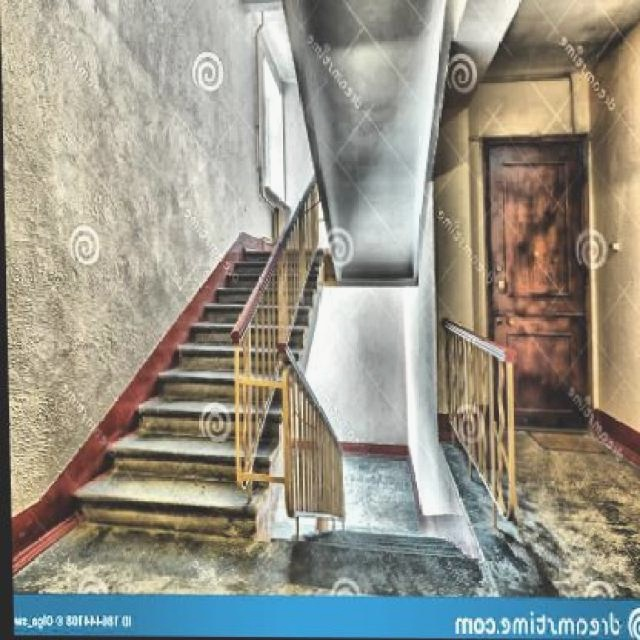stair: (69, 182, 282, 526)
